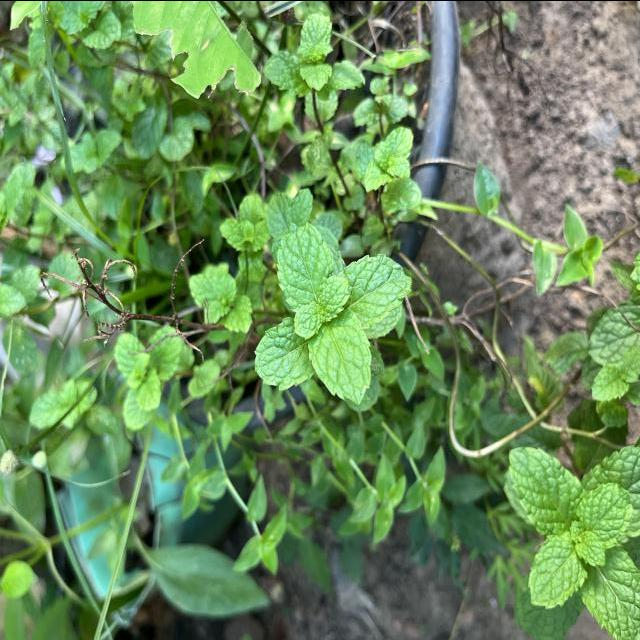Mentha spicata: (307, 307, 372, 406), (340, 251, 412, 331), (276, 220, 334, 312), (253, 316, 314, 392)
